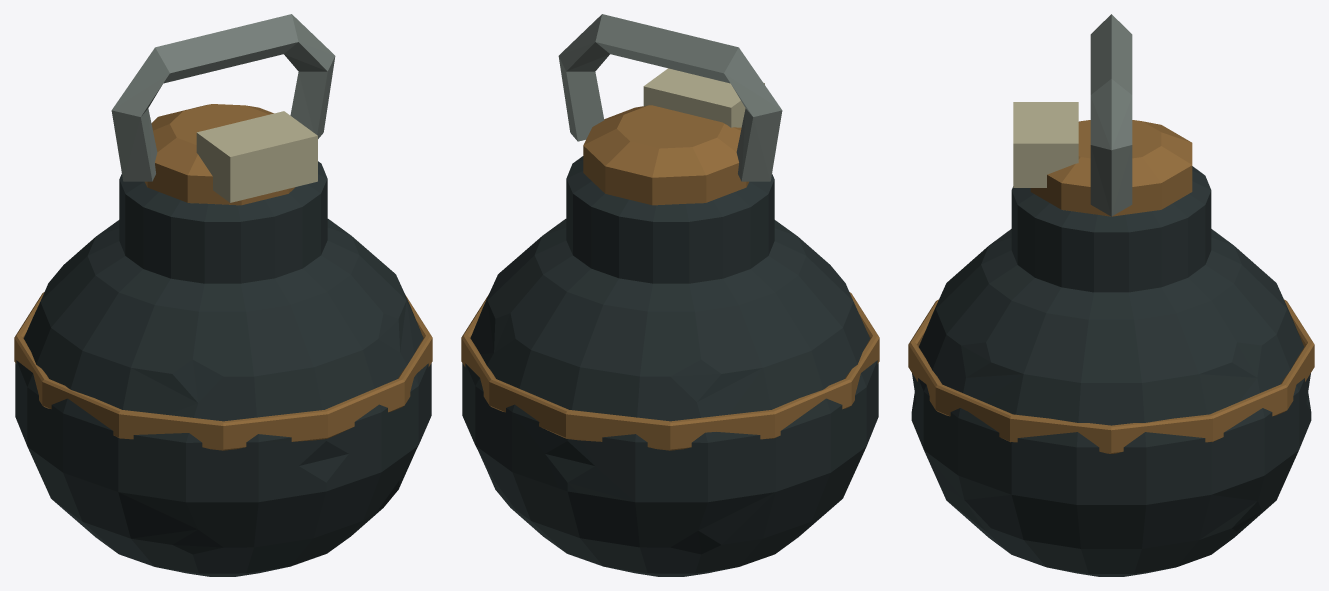
The model's file is VAULT_BOMB.shadow.glb.
3 views of the same model, side by side, from view 1: azimuth 30°, elevation 25°; view 2: azimuth 150°, elevation 25°; view 3: azimuth 270°, elevation 25° (orthographic). The views are drawn at different scales.
Visible parts, largest first — view 1: Body_Mesh; view 2: Body_Mesh; view 3: Body_Mesh.
Boxes of the visible parts, box(x1,y1,x2,y2) form: Body_Mesh: box(14, 14, 432, 576); Body_Mesh: box(461, 14, 879, 576); Body_Mesh: box(908, 14, 1314, 576).
Bounding box in the file's own units: 0.62 × 0.8612 × 0.62.
